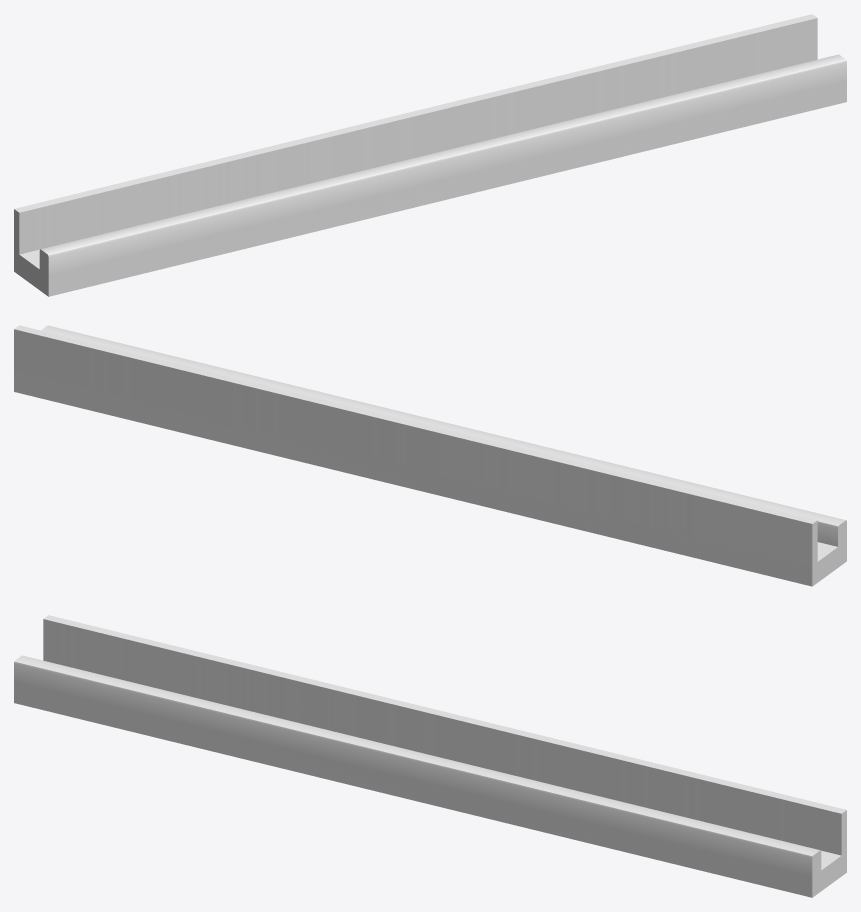
The model's file is Shelf.fbx.
The picture shows the model from 3 angles, top to bottom: view 1: azimuth 30°, elevation 25°; view 2: azimuth 150°, elevation 25°; view 3: azimuth 330°, elevation 25°; orthographic projection.
Parts seen in each view (by area): view 1: Shelf; view 2: Shelf; view 3: Shelf.
Boxes of the visible parts, left/top/right/bottom form: Shelf: left=14, top=14, right=846, bottom=296; Shelf: left=14, top=325, right=846, bottom=586; Shelf: left=14, top=615, right=846, bottom=897.
Bounding box in the file's own units: 80 × 6 × 6.
Materials: 1 (1 with a texture image).
